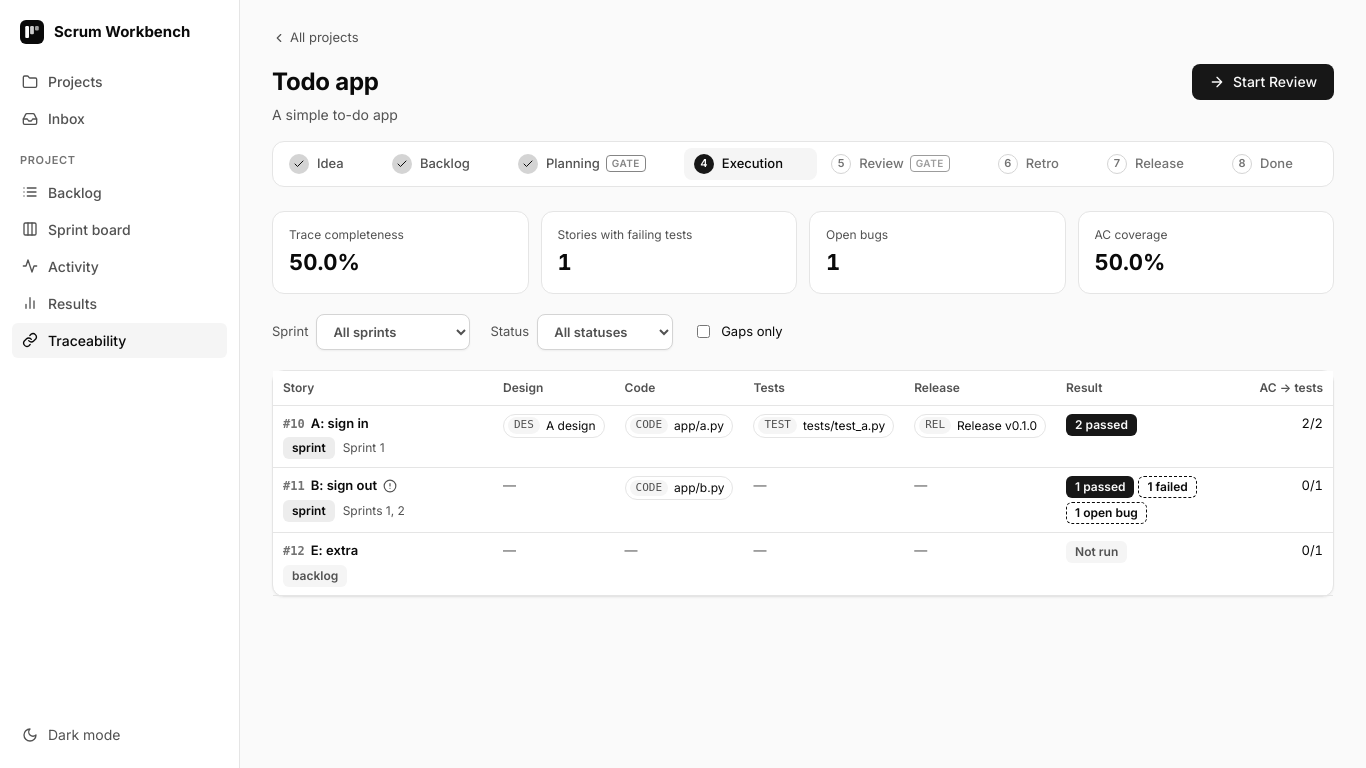
Test case: TraceabilityPage › filters to gaps only and keeps the choice in the URL
The image size is (1366, 768).
Expected: the text "A: sign in" is shown, [311,414,369,433]
What coordinates should you click on to do the following:
click the checkbox labelled "Gaps only"
I would click on:
 (704, 332)
Its box is [697,325,710,338].
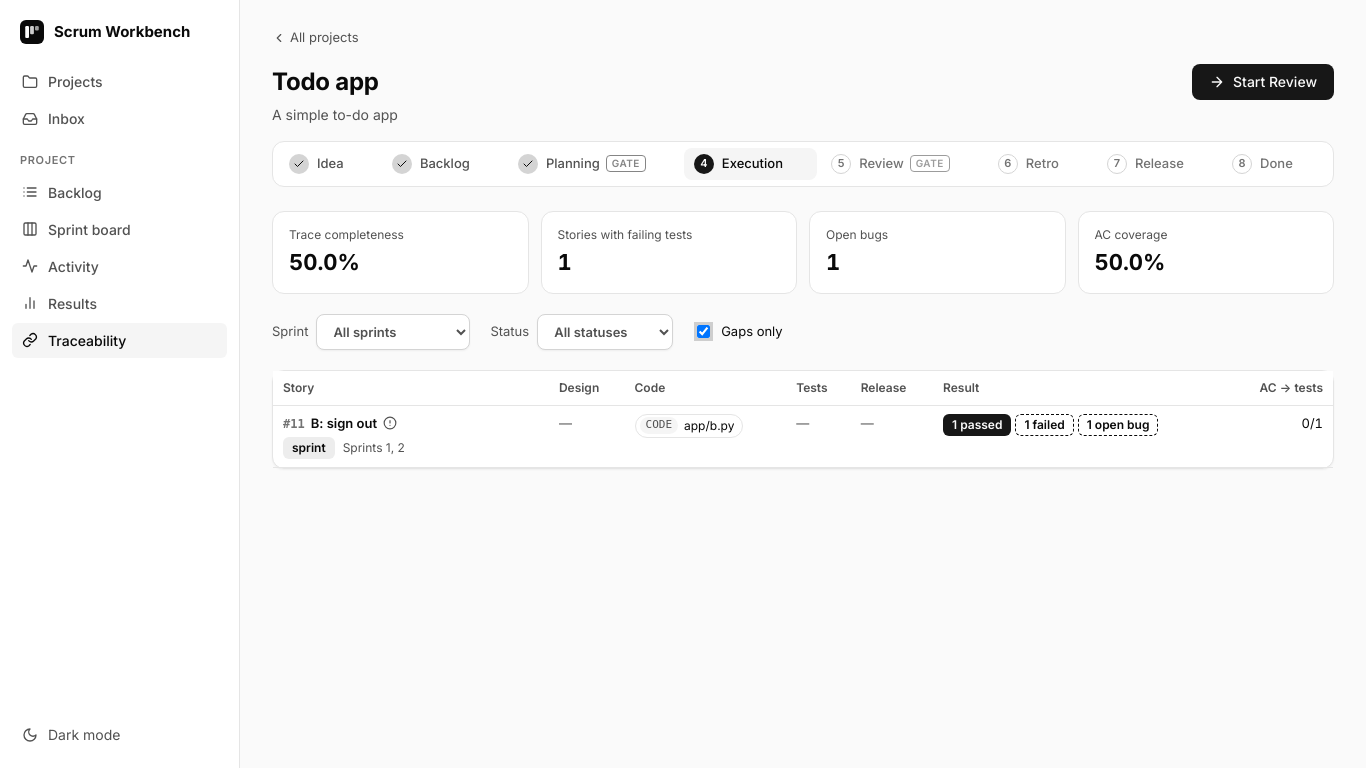
Result: the checkbox labelled "Gaps only" is checked at [697,325,710,338]
Result: the text "A: sign in" is gone
Result: the text "E: extra" is gone
